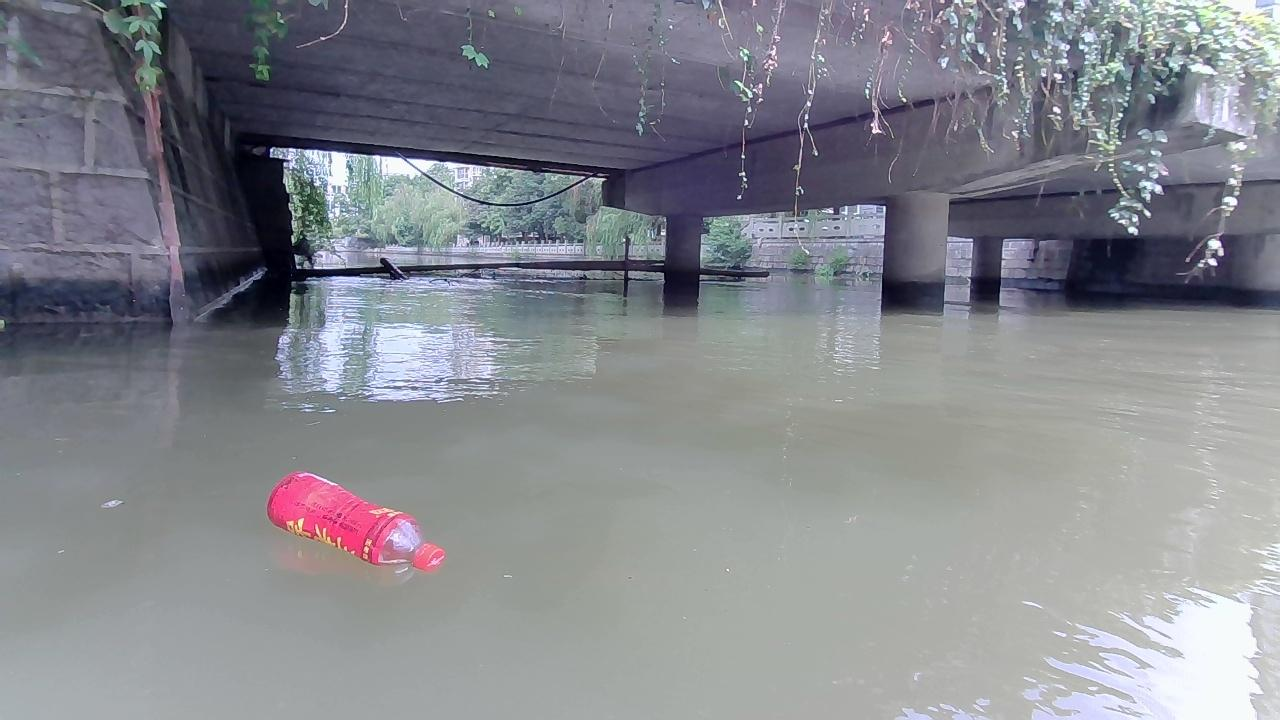bottle: (267, 468, 445, 570)
